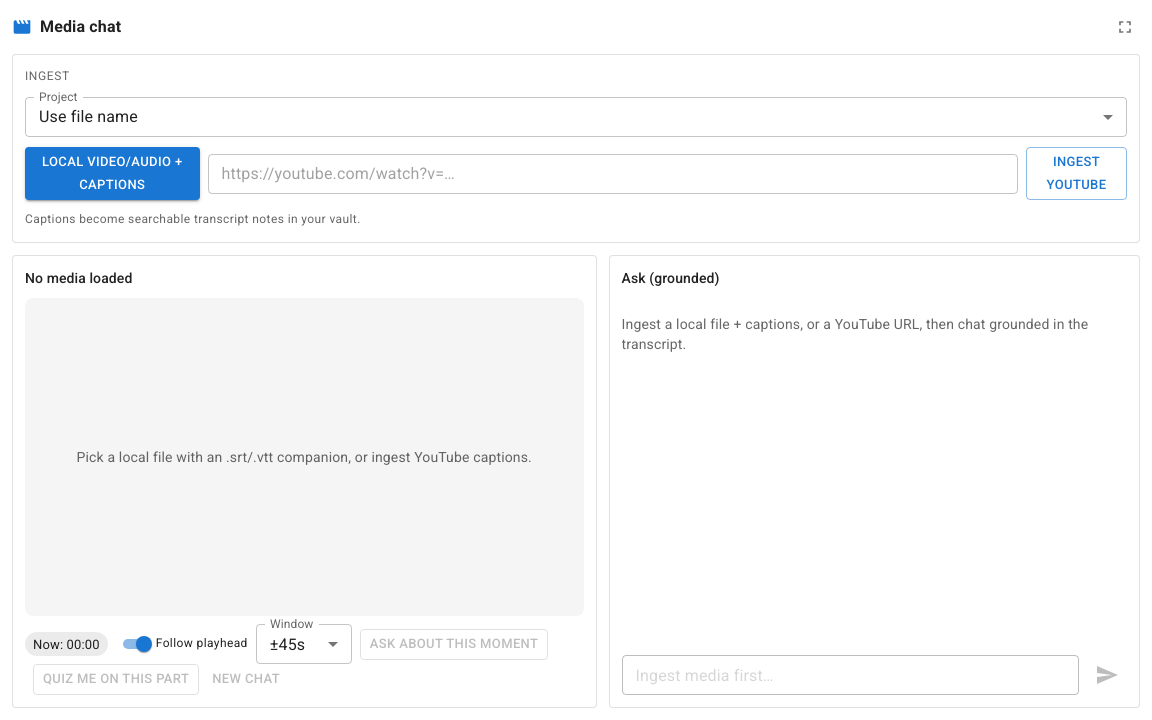
Test: MediaChatView › rejects an empty YouTube URL
This screenshot has width=1152, height=720.
What coordinates should you click on to do the following:
click the button "Ingest YouTube"
I would click on:
 (1076, 174)
Its box is [1026, 147, 1127, 200].
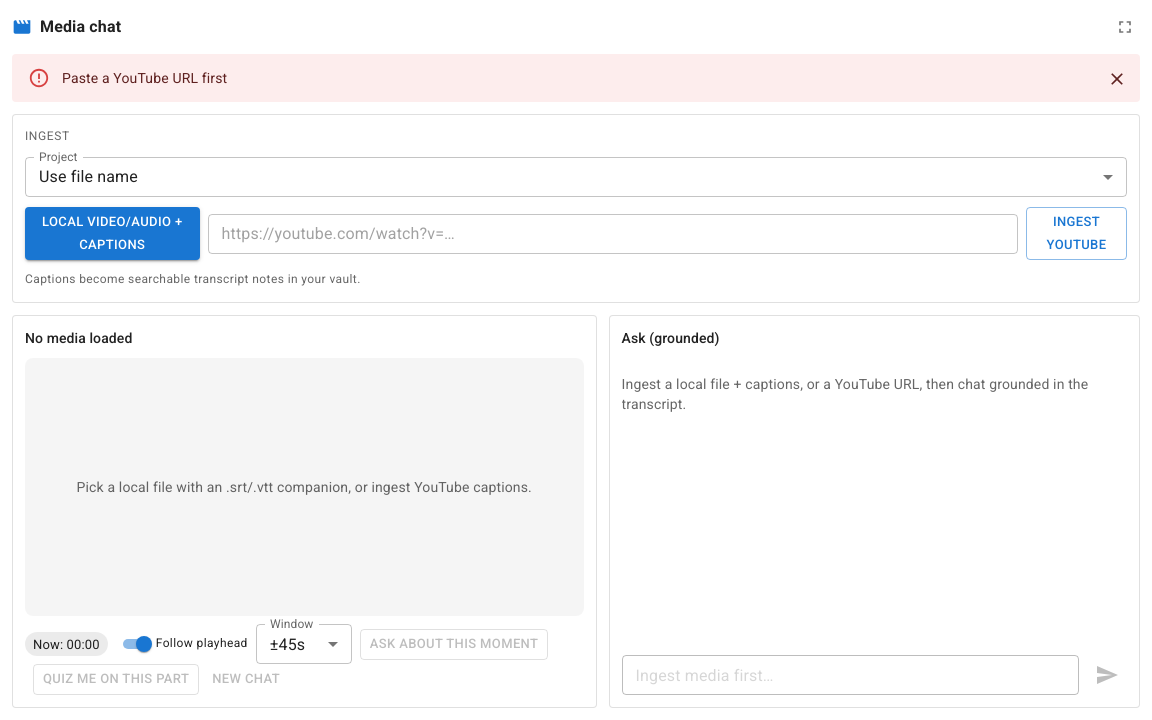
expect the text "Paste a YouTube URL first" is shown: met, box [62, 70, 227, 86]
